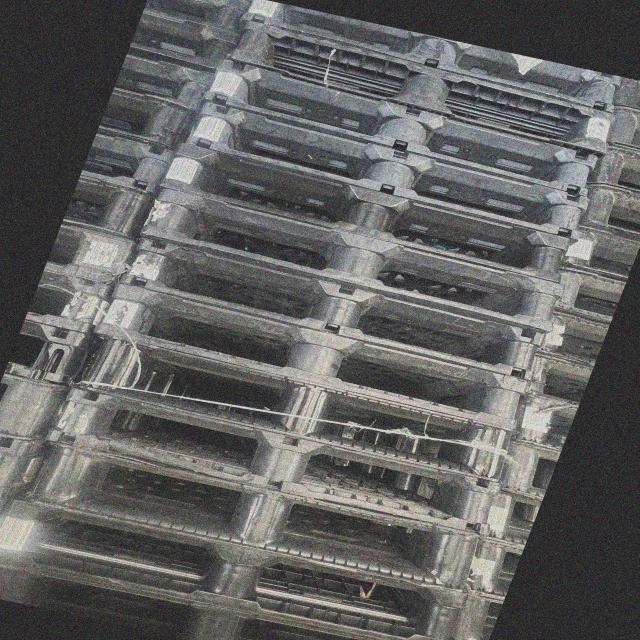igps: (33, 378, 511, 546), (18, 433, 486, 602), (73, 322, 523, 491), (85, 276, 536, 440), (113, 225, 553, 389), (0, 489, 476, 640), (134, 183, 570, 336), (179, 96, 594, 246), (152, 139, 574, 286), (196, 53, 604, 202), (220, 18, 622, 161), (235, 0, 626, 119), (0, 550, 438, 640), (36, 214, 146, 301), (117, 5, 248, 76), (102, 45, 221, 119), (0, 313, 107, 391), (20, 262, 128, 338), (92, 85, 203, 158), (56, 170, 160, 247), (78, 129, 180, 200), (528, 302, 614, 372), (0, 370, 79, 446), (553, 218, 640, 286), (546, 262, 630, 328), (475, 476, 546, 551), (459, 531, 530, 604), (520, 346, 599, 410), (510, 387, 582, 456), (496, 437, 564, 506), (135, 0, 256, 37), (572, 179, 640, 244), (444, 585, 509, 640), (584, 142, 640, 196), (606, 103, 640, 154)
